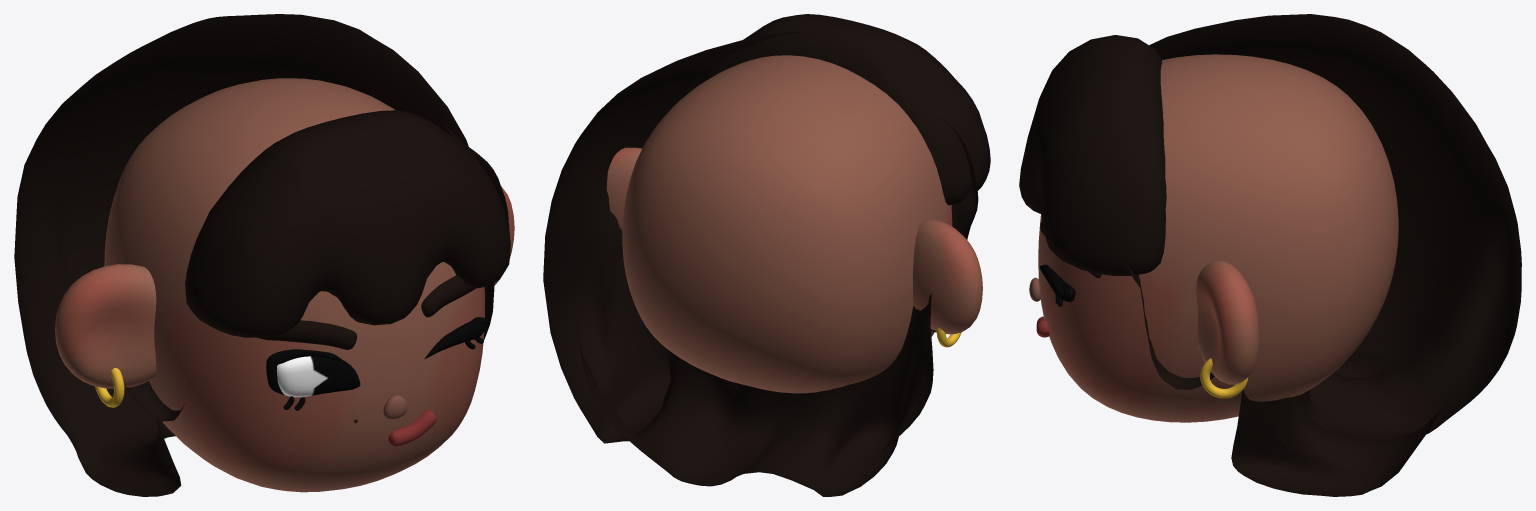
The model's file is chibi-fiere.glb.
3 views of the same model, side by side, from view 1: azimuth 30°, elevation 25°; view 2: azimuth 150°, elevation 25°; view 3: azimuth 270°, elevation 25° (orthographic). The views are drawn at different scales.
Parts seen in each view (by area): view 1: head.003, back.003, bangs.003, ears.003, eyes.003, brows.003, top lashes.003, mouth.003, eyes.004, earrings.003; view 2: head.003, back.003, bangs.003, ears.003; view 3: head.003, back.003, bangs.003, ears.003, earrings.003.
Boxes of the visible parts, left/top/right/bottom form: head.003: left=104, top=78, right=484, bottom=492; back.003: left=14, top=14, right=509, bottom=496; bangs.003: left=185, top=110, right=510, bottom=337; ears.003: left=55, top=186, right=514, bottom=388; eyes.003: left=276, top=356, right=360, bottom=397; brows.003: left=257, top=275, right=476, bottom=349; top lashes.003: left=266, top=317, right=486, bottom=394; mouth.003: left=388, top=409, right=436, bottom=446; eyes.004: left=424, top=322, right=485, bottom=358; earrings.003: left=95, top=368, right=124, bottom=407; head.003: left=622, top=55, right=952, bottom=393; back.003: left=543, top=31, right=978, bottom=496; bangs.003: left=699, top=14, right=990, bottom=205; ears.003: left=606, top=147, right=982, bottom=334; head.003: left=1038, top=54, right=1398, bottom=422; back.003: left=1124, top=14, right=1521, bottom=496; bangs.003: left=1019, top=35, right=1166, bottom=275; ears.003: left=1196, top=260, right=1259, bottom=384; earrings.003: left=1200, top=358, right=1248, bottom=398.
Bounding box in the file's own units: 2.16 × 1.95 × 2.23.
Materials: 9 (4 with a texture image).
